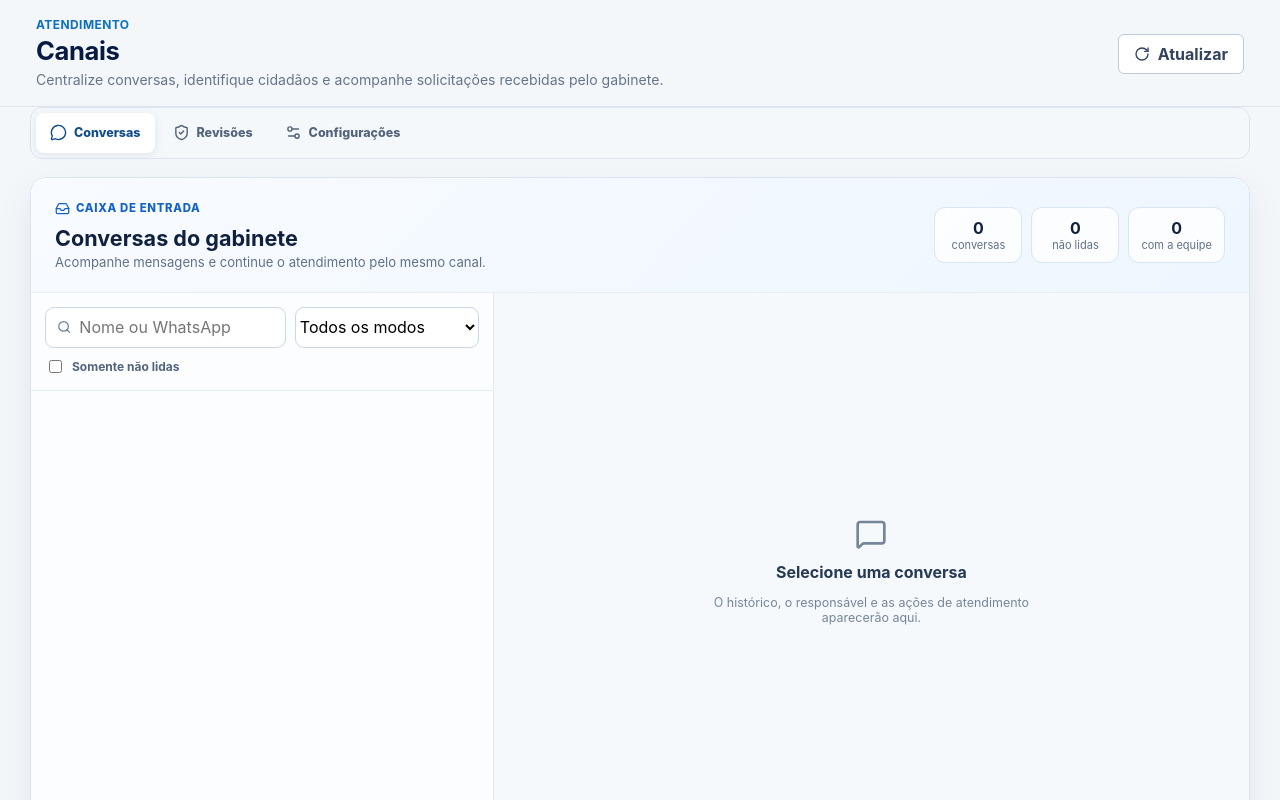
Test: ChannelsPage assisted identity review › separa conversas, revisões e configurações em áreas próprias
Expected: the navigation bar named "Áreas de Canais" is shown, [30,106,1250,158]
What coordinates should you click on to do the following:
click the button "Revisões"
I would click on:
 (213, 132)
Its box is [158,112,267,152].
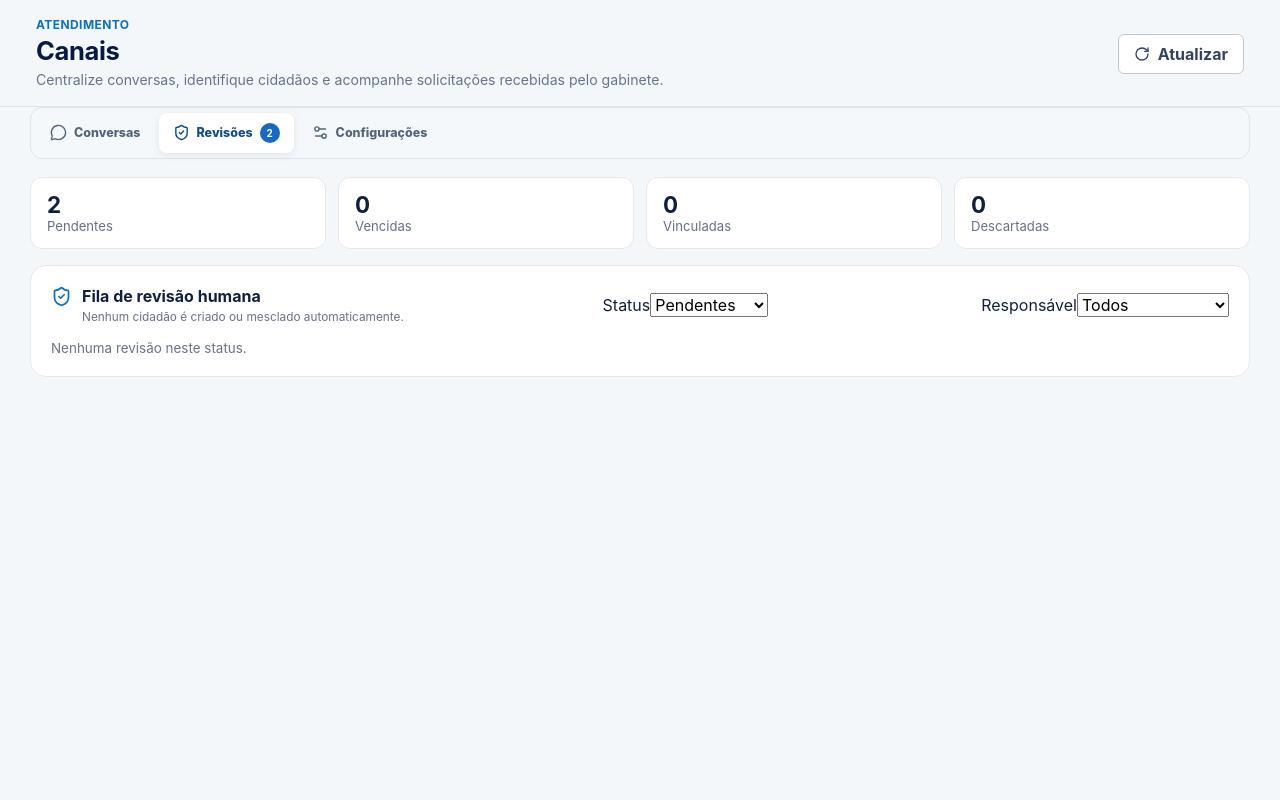
Expected: the text "Fila de revisão humana" is shown, [82,286,261,306]
What coordinates should you click on to do the following:
click the button "Configurações"
I would click on:
 (369, 132)
Its box is [298,112,441,152].
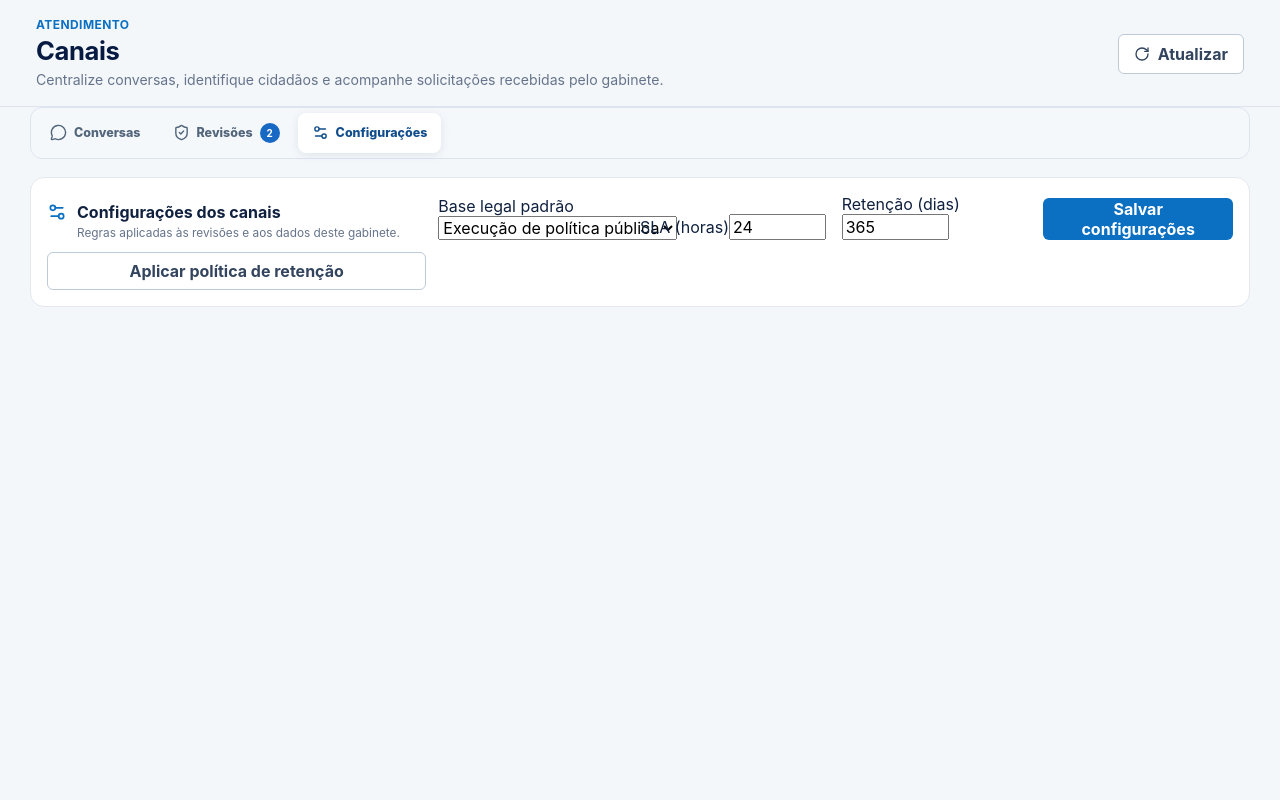
Expected: the text "Configurações dos canais" is shown, [77,202,281,222]
Expected: the text "Fila de revisão humana" is gone
